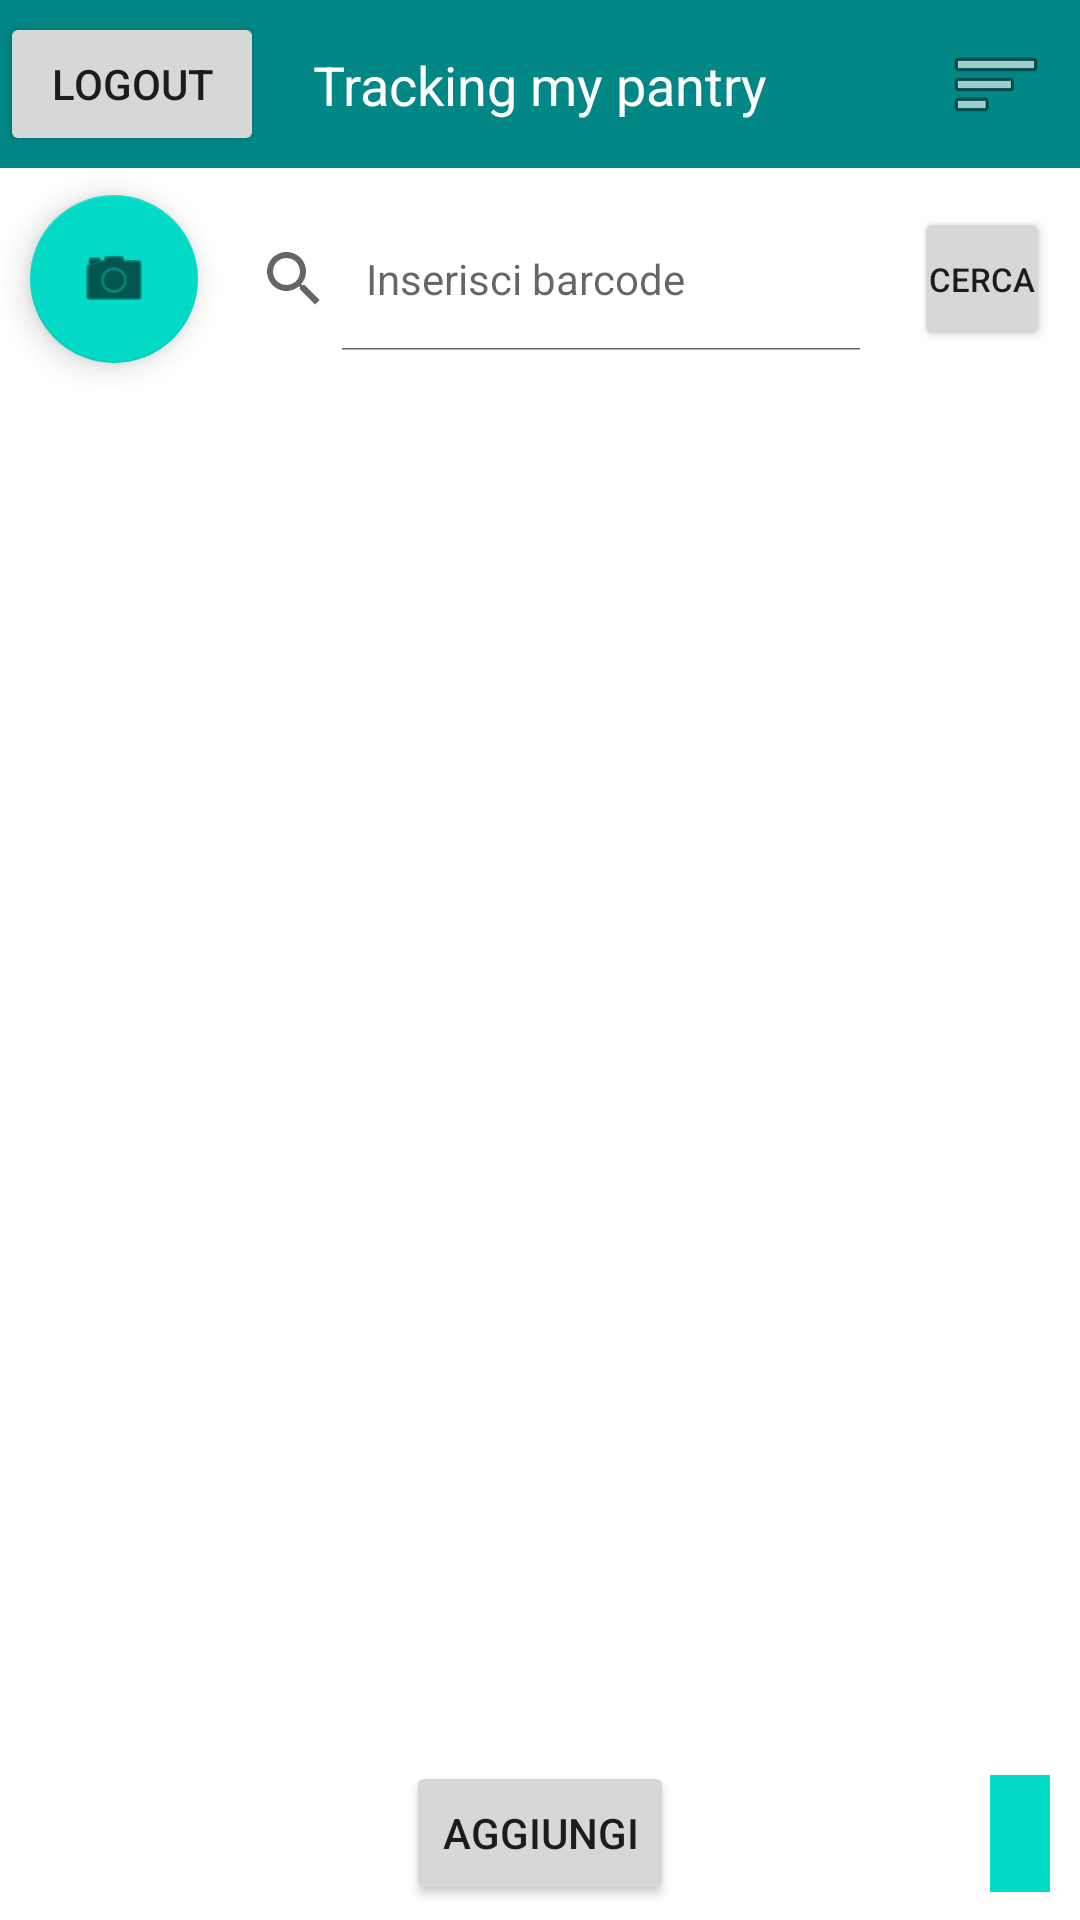

Named icons in this screenshot (1080 x 1920) and their centers, (x,y):
camera: (114,279)
sort by size: (996,84)
